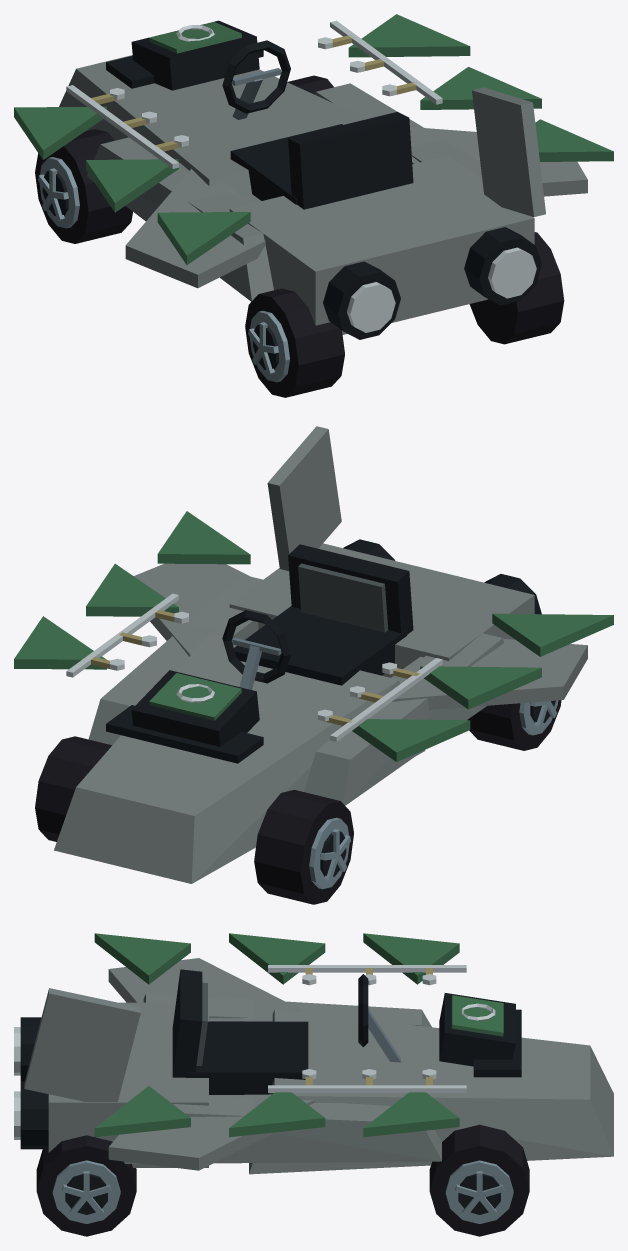
Rendered from kart.glb.
3 views of the same model, one above another, from view 1: azimuth 30°, elevation 25°; view 2: azimuth 150°, elevation 25°; view 3: azimuth 270°, elevation 25° (orthographic). The views are drawn at different scales.
Visible parts, largest first — view 1: identity-shuttle-shuttle-flight-planform, identity-shuttle-motif-leaves, identity-shuttle-driver-cockpit, wheel-rear-left, wheel-front-left, identity-shuttle-motif-scanner, wheel-rear-right, identity-shuttle-motif-circuit; view 2: identity-shuttle-shuttle-flight-planform, identity-shuttle-motif-leaves, identity-shuttle-driver-cockpit, wheel-front-left, identity-shuttle-motif-scanner, identity-shuttle-motif-circuit, wheel-front-right, wheel-rear-left; view 3: identity-shuttle-shuttle-flight-planform, identity-shuttle-motif-leaves, identity-shuttle-driver-cockpit, wheel-front-right, wheel-rear-right, identity-shuttle-motif-scanner, identity-shuttle-motif-circuit.
Boxes of the visible parts, x1,y1,x2,y2 form: identity-shuttle-shuttle-flight-planform: [59, 50, 587, 339]; identity-shuttle-motif-leaves: [14, 14, 613, 264]; identity-shuttle-driver-cockpit: [222, 40, 413, 209]; wheel-rear-left: [245, 288, 344, 397]; wheel-front-left: [35, 129, 132, 243]; identity-shuttle-motif-scanner: [131, 20, 259, 90]; wheel-rear-right: [469, 232, 564, 344]; identity-shuttle-motif-circuit: [66, 20, 442, 168]; identity-shuttle-shuttle-flight-planform: [54, 426, 587, 883]; identity-shuttle-motif-leaves: [14, 511, 613, 761]; identity-shuttle-driver-cockpit: [222, 544, 413, 689]; wheel-front-left: [254, 789, 353, 904]; identity-shuttle-motif-scanner: [131, 670, 259, 746]; identity-shuttle-motif-circuit: [66, 593, 442, 741]; wheel-front-right: [35, 736, 111, 841]; wheel-rear-left: [467, 700, 561, 750]; identity-shuttle-shuttle-flight-planform: [14, 958, 613, 1174]; identity-shuttle-motif-leaves: [94, 933, 459, 1137]; identity-shuttle-driver-cockpit: [172, 969, 400, 1094]; wheel-front-right: [429, 1124, 529, 1236]; wheel-rear-right: [36, 1135, 136, 1236]; identity-shuttle-motif-scanner: [439, 993, 515, 1066]; identity-shuttle-motif-circuit: [268, 965, 466, 1092].
Bounding box in the file's own units: 2.36 × 1.28 × 2.99.
